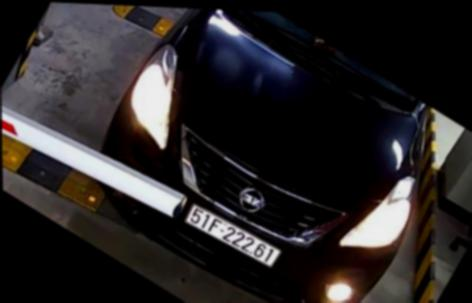License_Plate: (186, 204, 286, 276)
